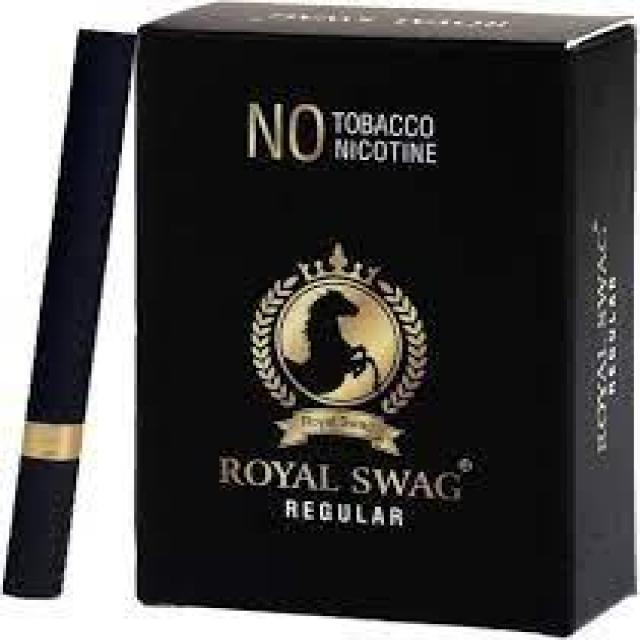cigarette: (0, 32, 137, 603)
